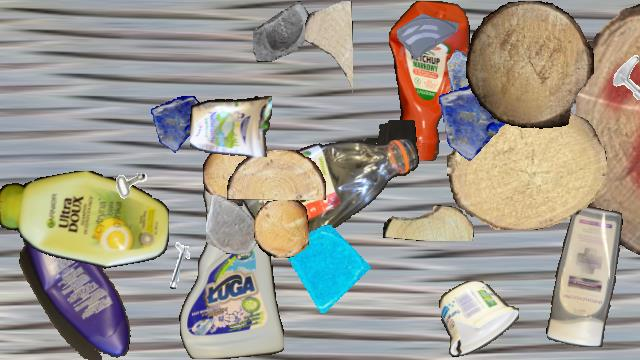glass: (287, 225, 375, 313), (437, 79, 521, 163), (397, 1, 459, 63), (253, 1, 313, 61), (206, 195, 264, 253), (447, 46, 503, 102), (151, 96, 207, 152)
metal: (95, 143, 155, 203), (155, 242, 211, 298), (607, 52, 640, 104)
plastic: (241, 120, 419, 238), (179, 169, 283, 359), (16, 217, 136, 359), (0, 171, 169, 271), (389, 1, 469, 161), (545, 206, 623, 346), (439, 281, 519, 357), (190, 92, 272, 156)
wood: (447, 109, 607, 229), (576, 1, 640, 263), (466, 1, 594, 129), (227, 150, 325, 200), (305, 1, 353, 97), (383, 205, 473, 241), (254, 200, 308, 258), (203, 146, 253, 206), (0, 1, 5, 99)
